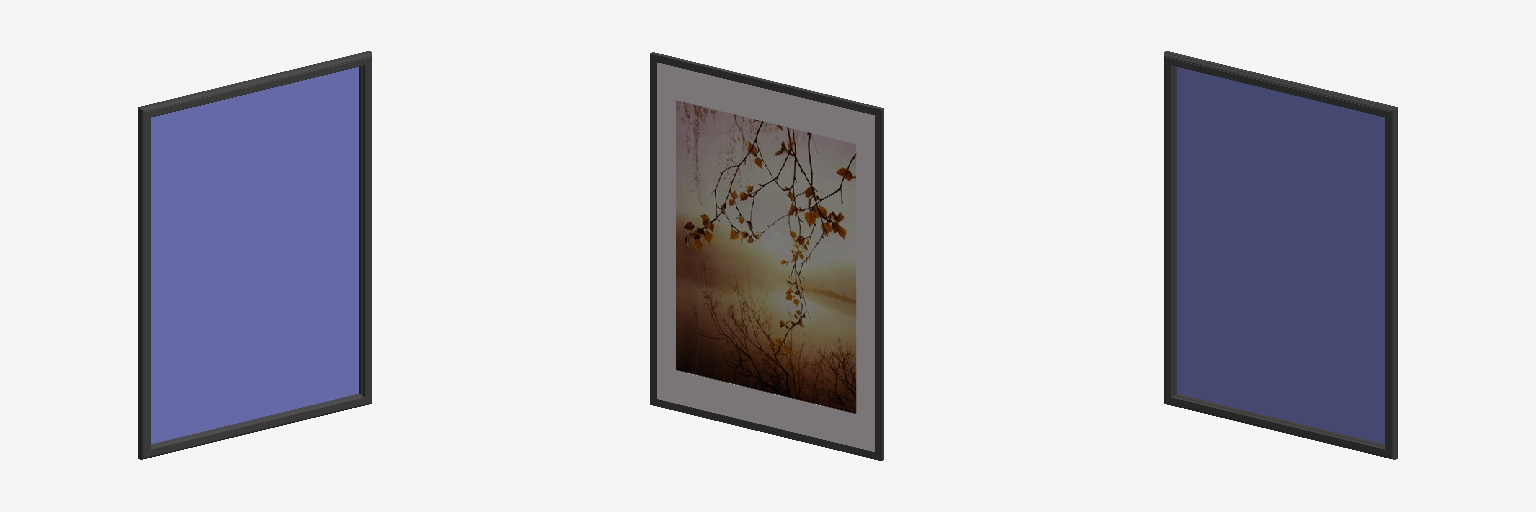
3 views of the same model, side by side, from view 1: azimuth 30°, elevation 25°; view 2: azimuth 150°, elevation 25°; view 3: azimuth 330°, elevation 25° (orthographic).
Visible parts, largest first — view 1: pic2; view 2: pic2; view 3: pic2.
Boxes of the visible parts, x1=… form: pic2: x1=138, y1=51, x2=371, y2=459; pic2: x1=650, y1=52, x2=883, y2=460; pic2: x1=1164, y1=51, x2=1397, y2=459.
Size of the model in its own units: 6900 by 10000 by 200.
Materials: 4 (1 with a texture image).